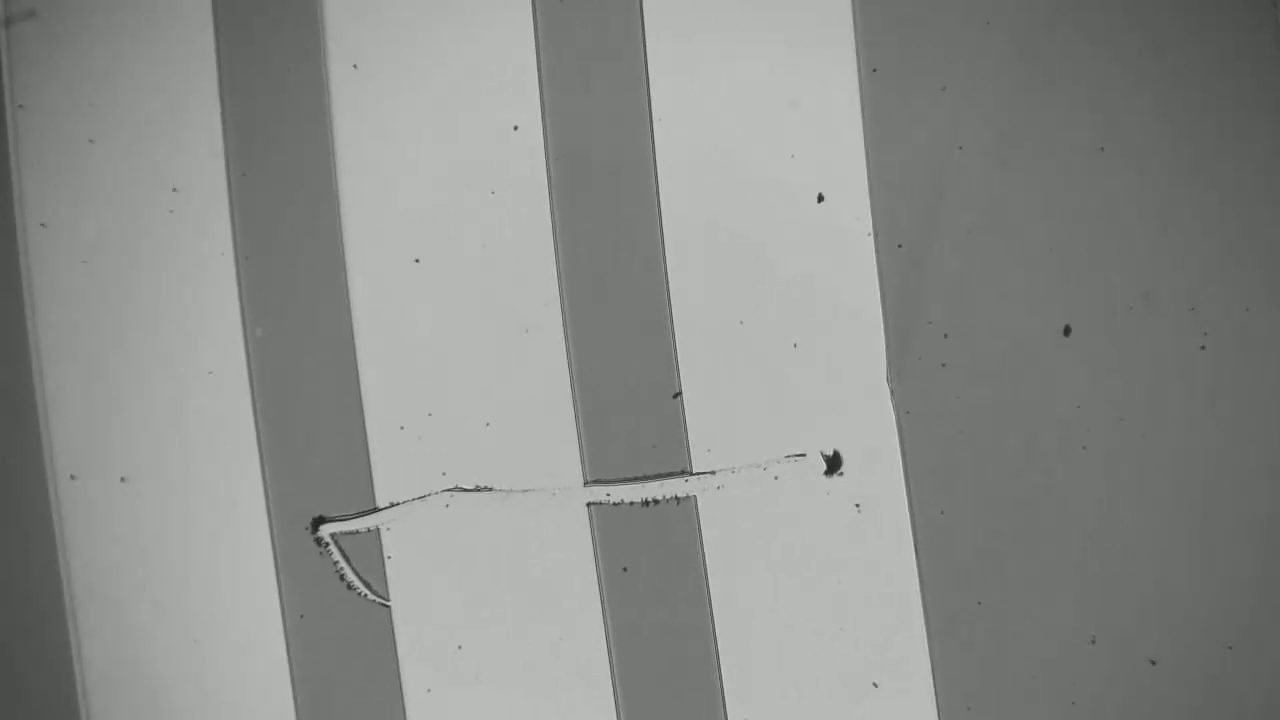Short_circuit: (547, 456, 728, 534), (245, 483, 415, 558)
